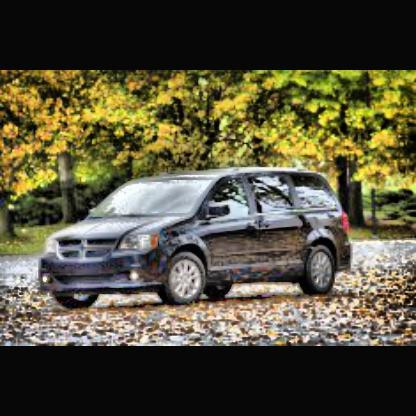Ram C-V Cargo Van Minivan 2012: (38, 164, 356, 310)
